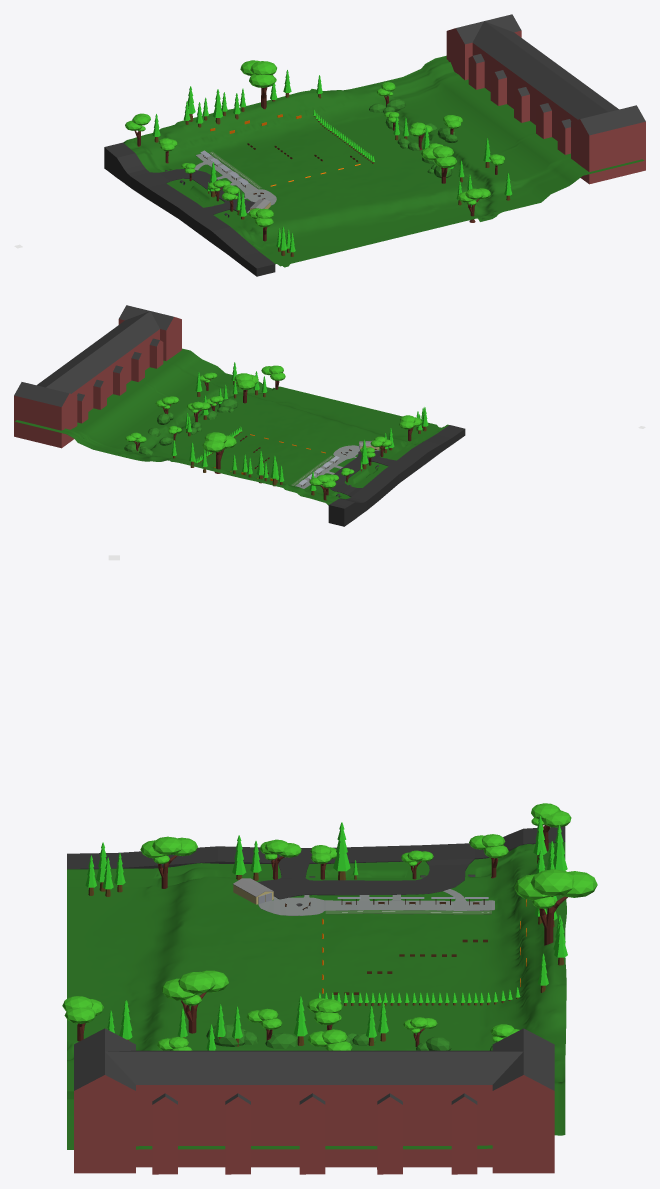
The model's file is terrain.glb.
3 views of the same model, one above another, from view 1: azimuth 30°, elevation 25°; view 2: azimuth 150°, elevation 25°; view 3: azimuth 270°, elevation 25° (orthographic). The views are drawn at different scales.
Parts seen in each view (by area): view 1: Landscape_2, UP2_62, Road_3, Path_0, Oak Tree.010_100, Oak Tree.001_86, Oak Tree.013_129, Oak Tree.003_88, Oak Tree.009_99; view 2: Landscape_2, UP2_62, Road_3, Oak Tree.010_100, Path_0, Oak Tree.001_86; view 3: Landscape_2, UP2_62, Road_3, Path_0, Oak Tree.010_100, Oak Tree.001_86, Oak Tree.003_88, Oak Tree.013_129, Oak Tree.009_99.
Part boxes in pixels (<box>): Landscape_2: <box>123,55,644,267</box>; UP2_62: <box>446,14,645,184</box>; Road_3: <box>104,142,275,276</box>; Path_0: <box>194,153,276,213</box>; Oak Tree.010_100: <box>240,60,276,109</box>; Oak Tree.001_86: <box>421,146,457,183</box>; Oak Tree.013_129: <box>457,188,490,222</box>; Oak Tree.003_88: <box>248,208,273,241</box>; Oak Tree.009_99: <box>125,113,150,146</box>; Landscape_2: <box>15,348,448,505</box>; UP2_62: <box>14,305,181,448</box>; Road_3: <box>328,425,465,526</box>; Oak Tree.010_100: <box>202,432,236,473</box>; Path_0: <box>295,445,379,488</box>; Oak Tree.001_86: <box>234,373,258,403</box>; Landscape_2: <box>67,842,566,1149</box>; UP2_62: <box>74,1028,554,1174</box>; Road_3: <box>67,826,565,899</box>; Path_0: <box>258,889,494,915</box>; Oak Tree.010_100: <box>514,869,597,945</box>; Oak Tree.001_86: <box>161,970,228,1033</box>; Oak Tree.003_88: <box>140,836,197,888</box>; Oak Tree.013_129: <box>62,996,103,1041</box>; Oak Tree.009_99: <box>531,803,571,851</box>.
Size of the model in its own units: 208 by 25.01 by 92.76.
